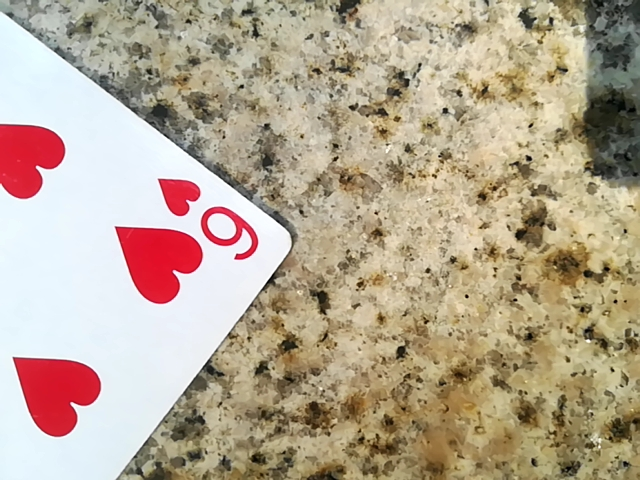hx 6: (0, 0, 298, 477)
